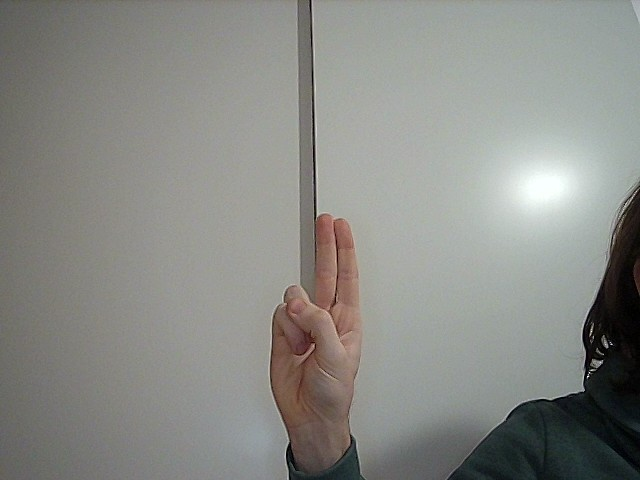u: (259, 207, 376, 431)
